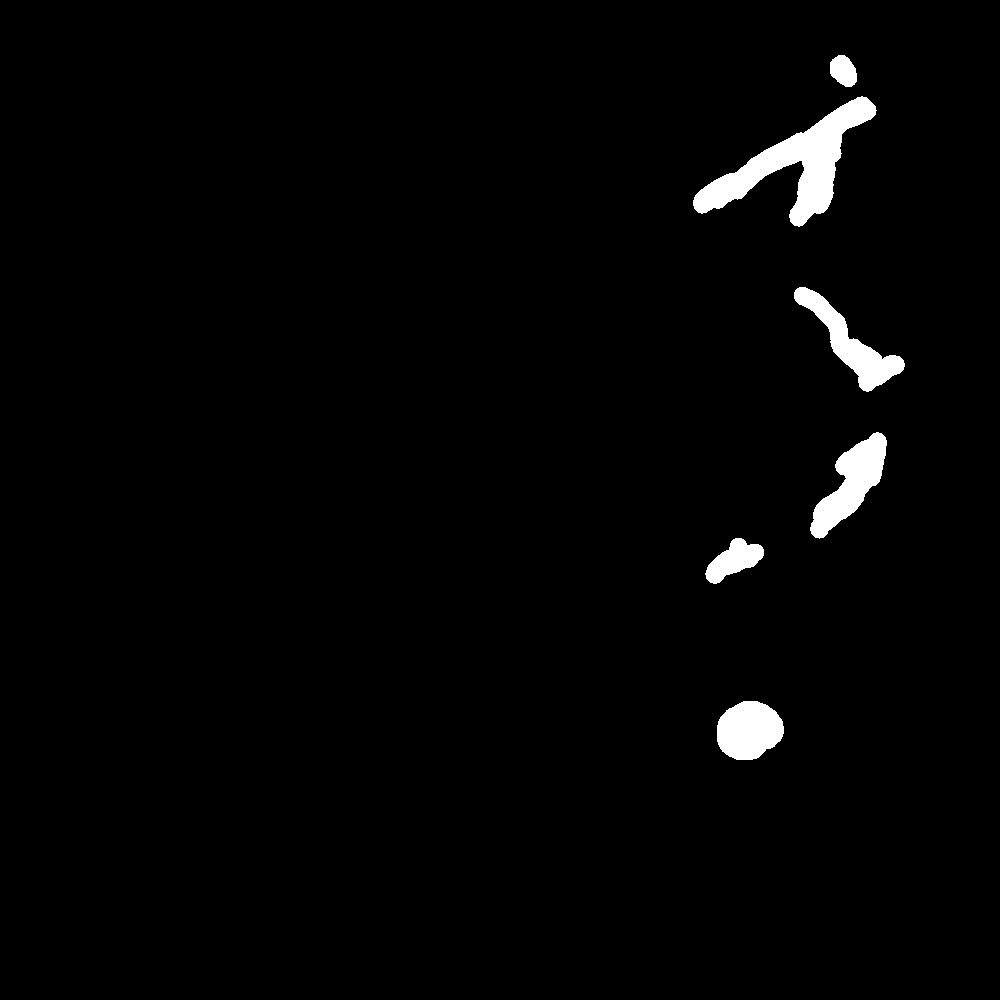illegal: (707, 81, 901, 207), (798, 253, 906, 395), (807, 434, 883, 541), (682, 543, 754, 609)
